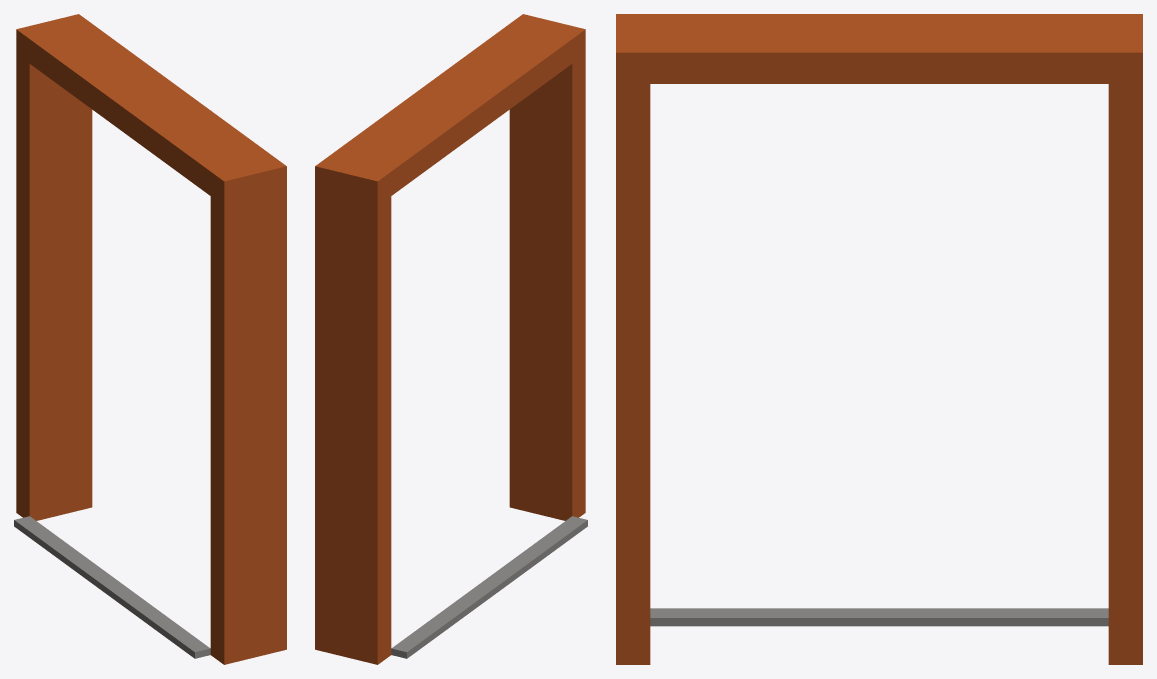
The model's file is B_k_frame_p.glb.
3 views of the same model, side by side, from view 1: azimuth 30°, elevation 25°; view 2: azimuth 150°, elevation 25°; view 3: azimuth 270°, elevation 25° (orthographic). The views are drawn at different scales.
Parts seen in each view (by area): view 1: Cube.001, Cube, Cube.002, Cube.003; view 2: Cube, Cube.001, Cube.002, Cube.003; view 3: Cube.002, Cube, Cube.001, Cube.003.
Boxes of the visible parts, x1=… form: Cube.001: x1=210, y1=191, x2=286, y2=664; Cube: x1=16, y1=54, x2=92, y2=520; Cube.002: x1=16, y1=14, x2=286, y2=205; Cube.003: x1=14, y1=516, x2=210, y2=658; Cube: x1=315, y1=191, x2=391, y2=664; Cube.001: x1=509, y1=54, x2=585, y2=520; Cube.002: x1=315, y1=14, x2=585, y2=205; Cube.003: x1=391, y1=516, x2=587, y2=658; Cube.002: x1=616, y1=14, x2=1142, y2=83; Cube: x1=1108, y1=84, x2=1142, y2=664; Cube.001: x1=616, y1=84, x2=650, y2=664; Cube.003: x1=650, y1=608, x2=1108, y2=626.
Bounding box in the file's own units: 0.5 × 2.95 × 2.3.
